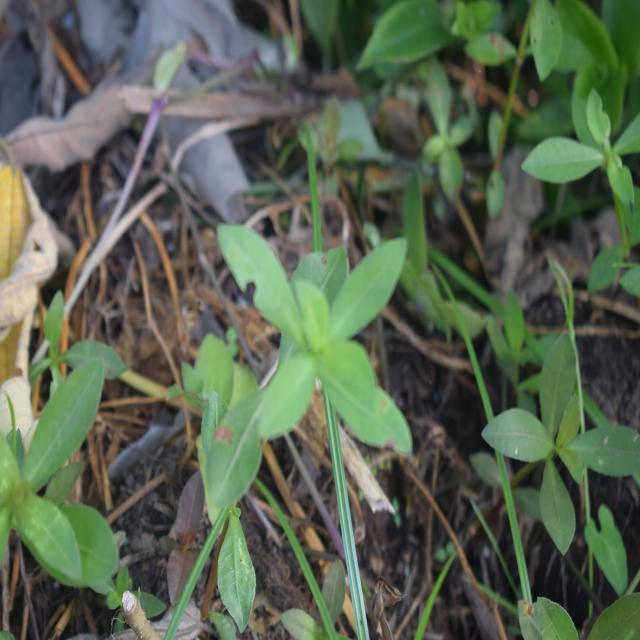Alligatorweed: (478, 321, 640, 545), (530, 86, 640, 223)
